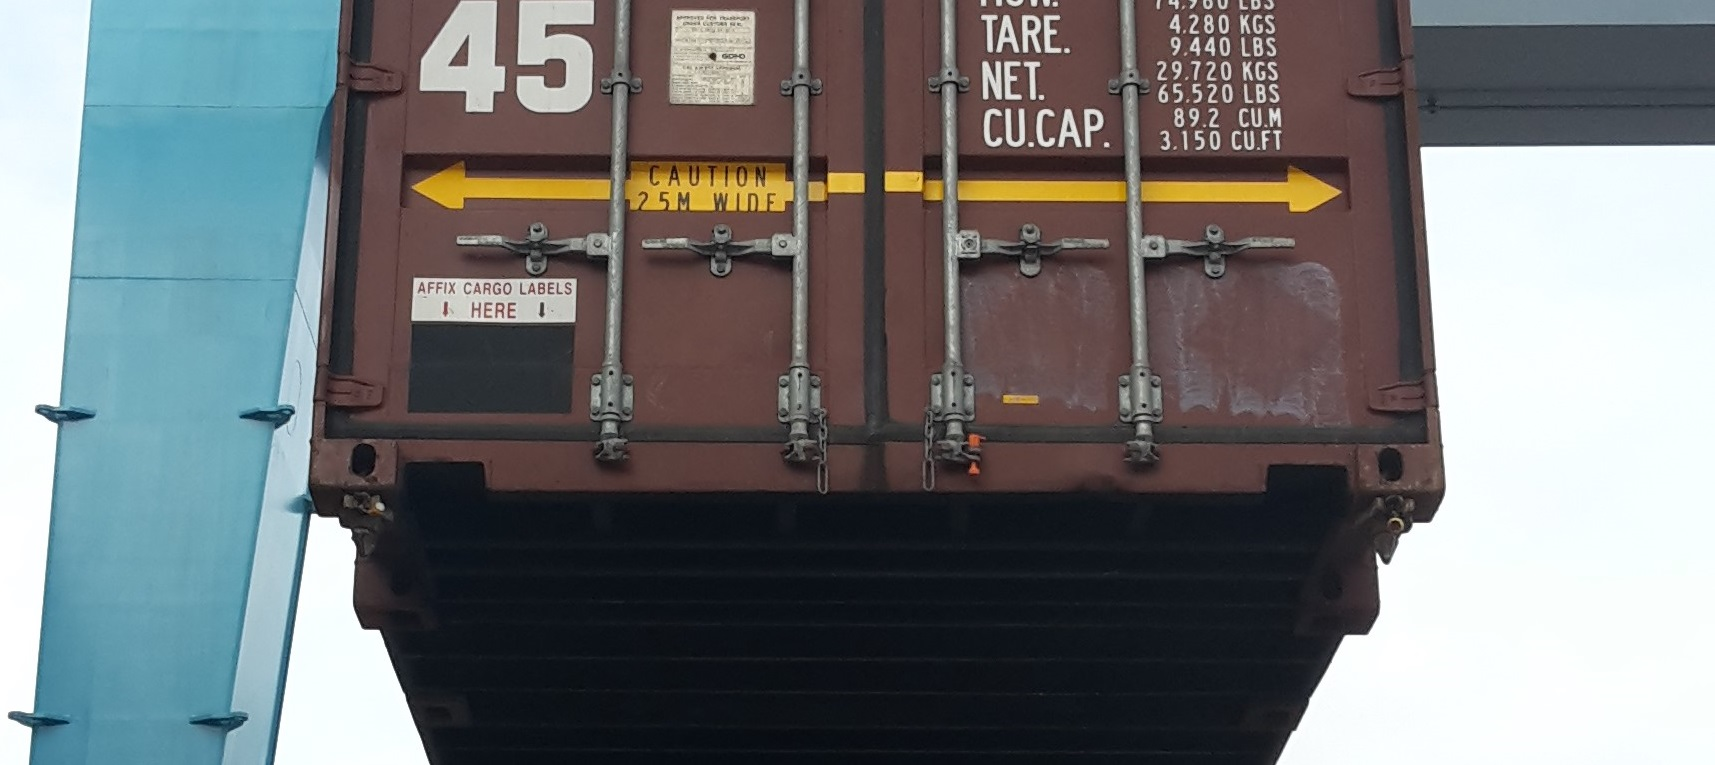container_door: (307, 1, 1443, 505)
